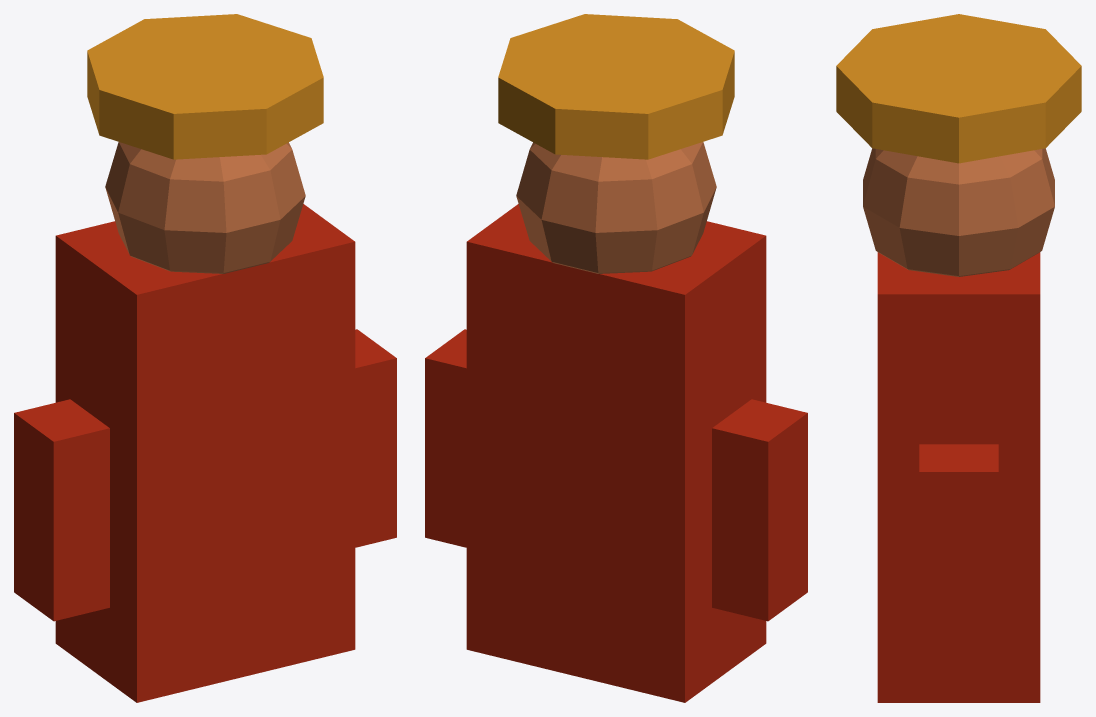
Rendered from npc_quest_v1.obj.
3 renders of one model, left to right at view 1: azimuth 30°, elevation 25°; view 2: azimuth 150°, elevation 25°; view 3: azimuth 270°, elevation 25°, orthographic.
Parts seen in each view (by area): view 1: npc_quest_v1; view 2: npc_quest_v1; view 3: npc_quest_v1.
Boxes of the visible parts, bbox=[...] form: npc_quest_v1: bbox=[14, 14, 396, 702]; npc_quest_v1: bbox=[425, 14, 807, 702]; npc_quest_v1: bbox=[836, 14, 1081, 702].
Bounding box in the file's own units: 1.1 × 1.78 × 0.68.
